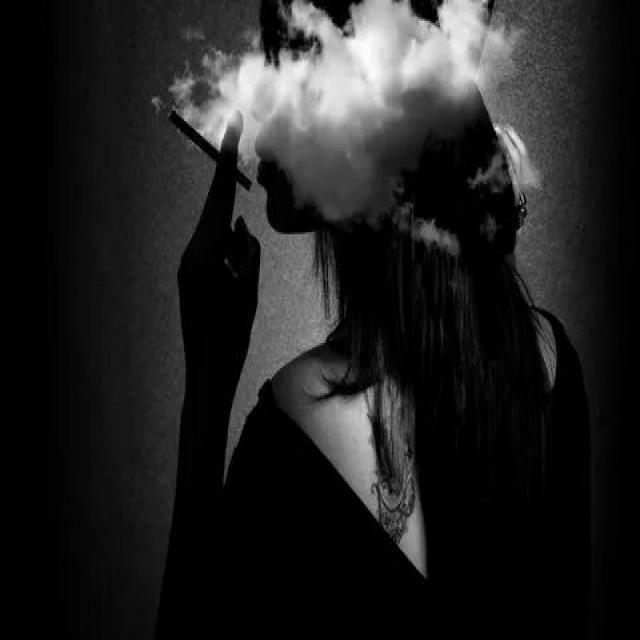cigarette: (165, 102, 259, 192)
